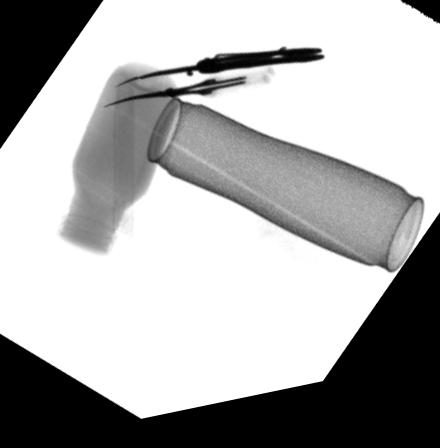Knife: (115, 58, 325, 91)
Scissors: (101, 59, 329, 113)
